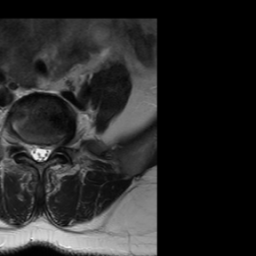CCS_normal: (36, 138, 44, 168)
LFS_stenosis: (52, 137, 59, 157)
LLS_normal: (44, 138, 51, 162)
RFS_stenosis: (20, 135, 28, 155)
RLS_normal: (29, 139, 36, 162)
